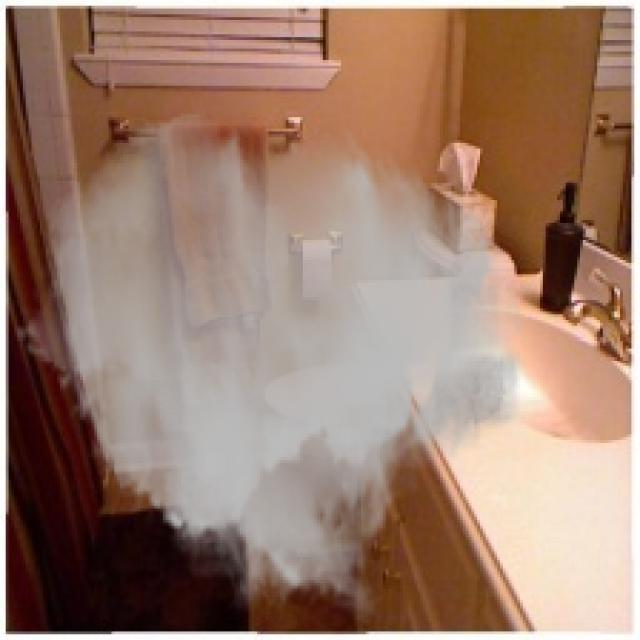Smoke: (14, 109, 529, 626)
